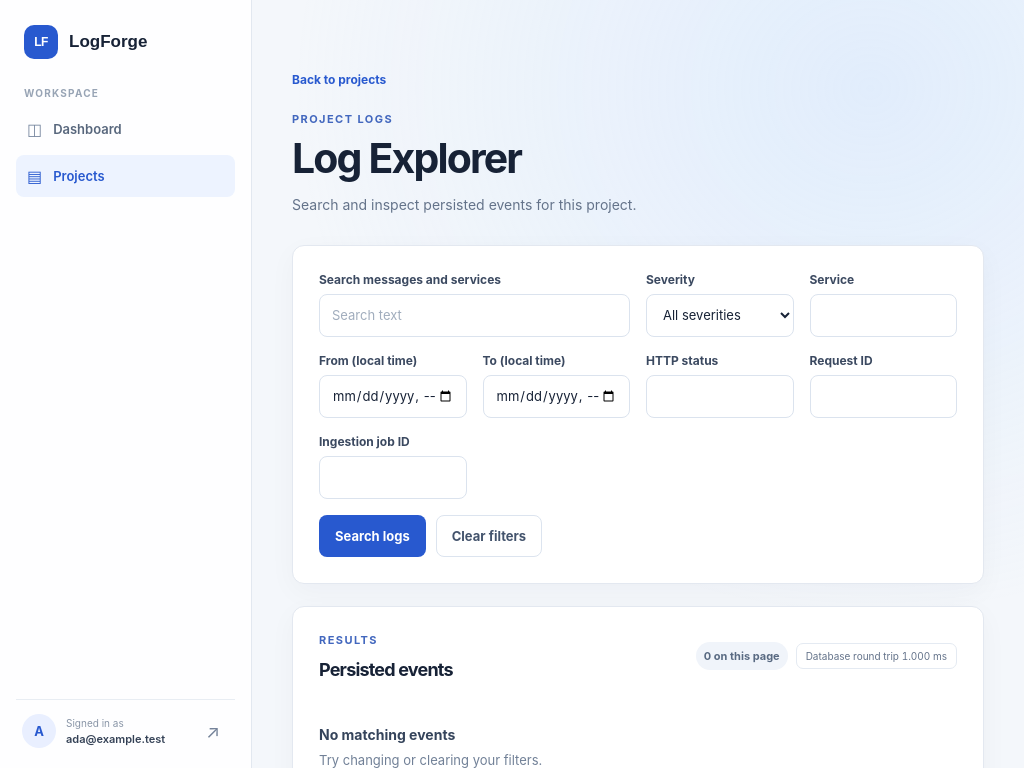
Test: Log Explorer › clears filters and returns to the first page
Expected: the heading "No matching events" is shown, [319,726,455,743]
Type "timeout" into the field labelled "Search messages and services" at (474, 315), box [319,294,630,337]
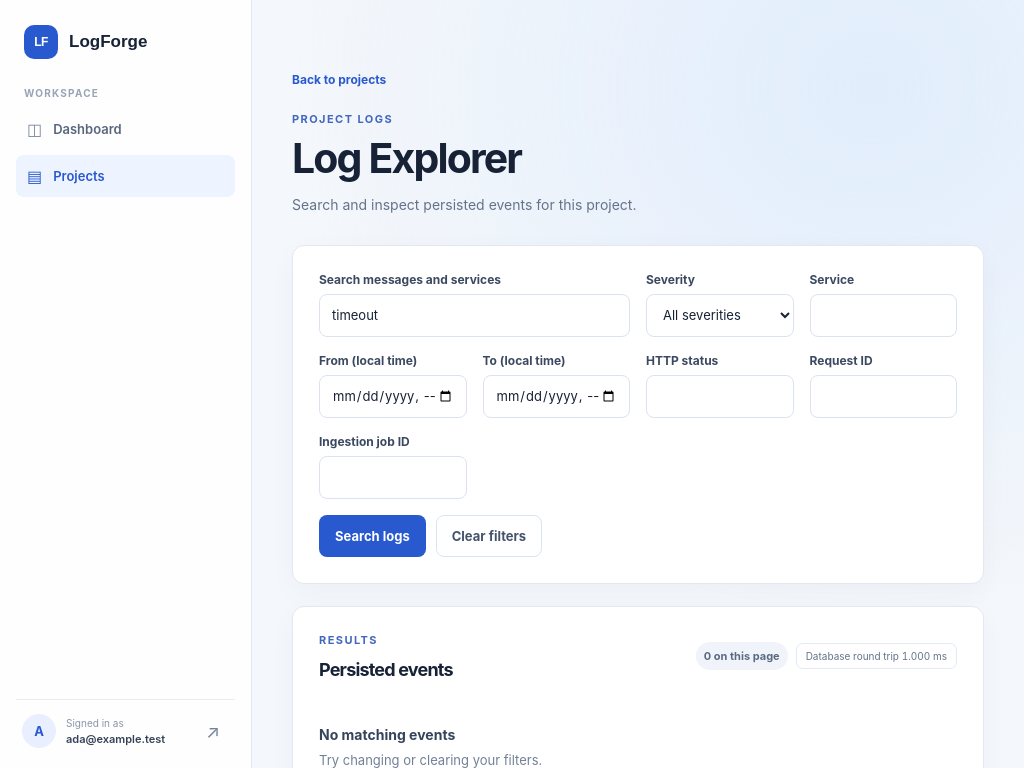
Click the button "Clear filters" at (489, 536), box [436,515,542,557]
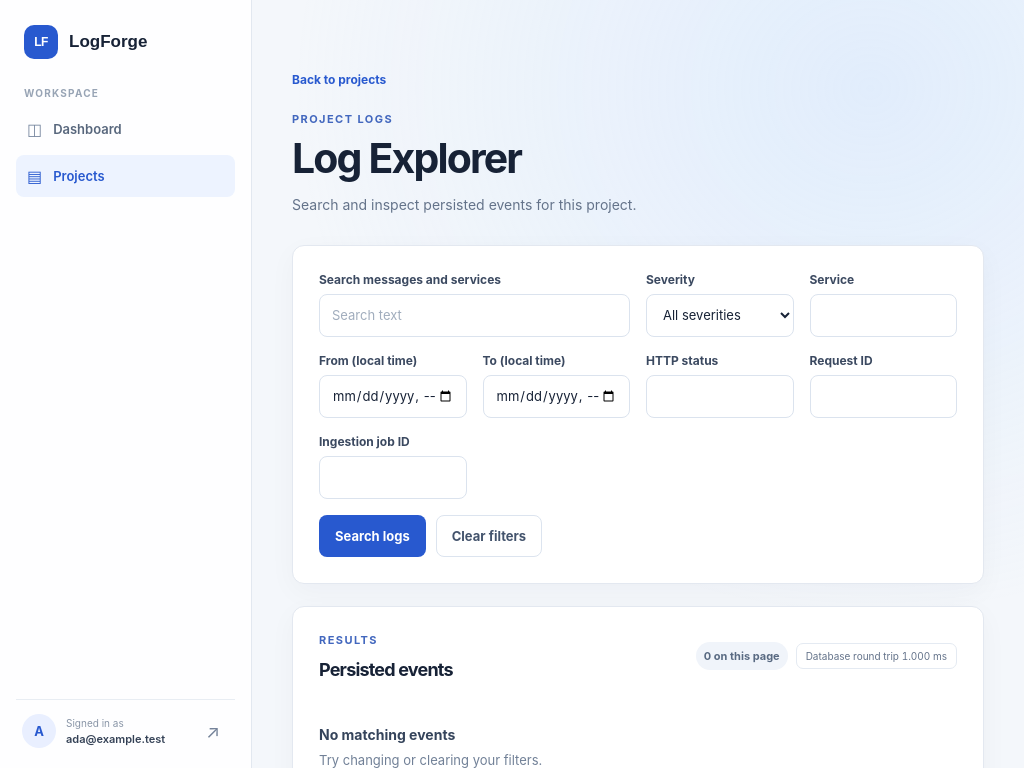
Now the field labelled "Search messages and services" is empty, box [319,294,630,337]
